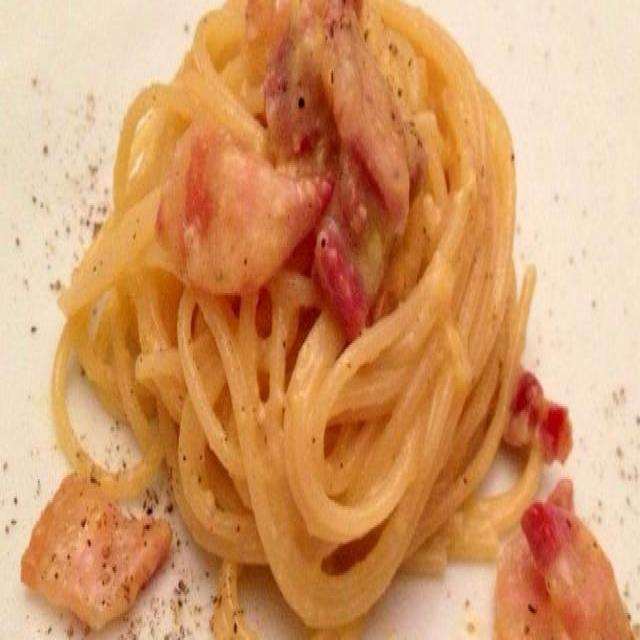Pasta with carbonara sauce: (66, 4, 621, 628)
